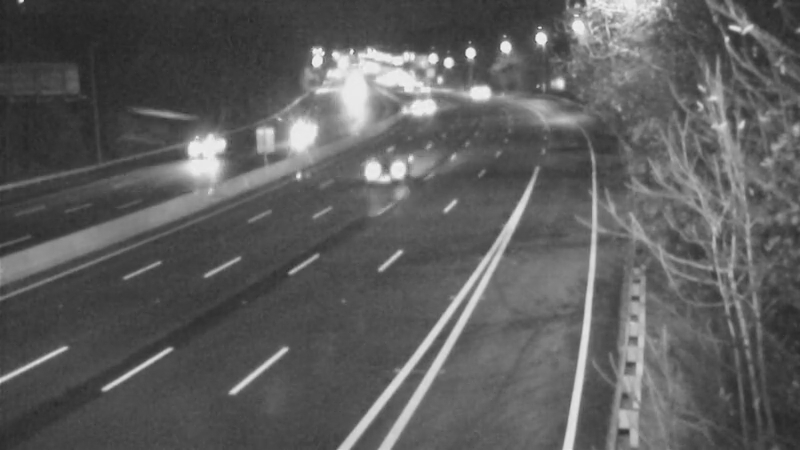vehicle: (341, 124, 421, 204), (388, 63, 438, 113), (450, 65, 500, 115), (397, 81, 447, 131), (178, 120, 228, 170), (273, 104, 323, 154)
